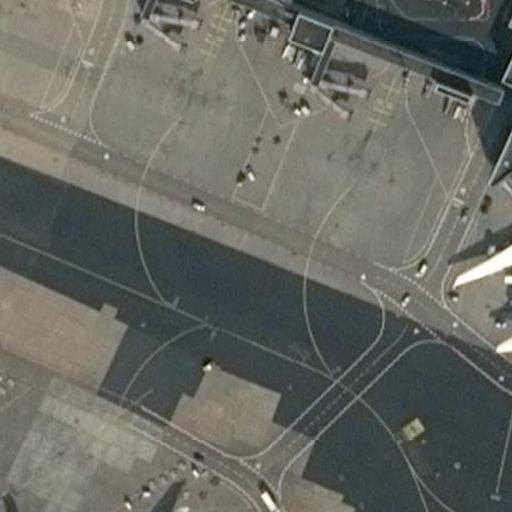Aircraft: (447, 162, 512, 370), (49, 499, 263, 512)
